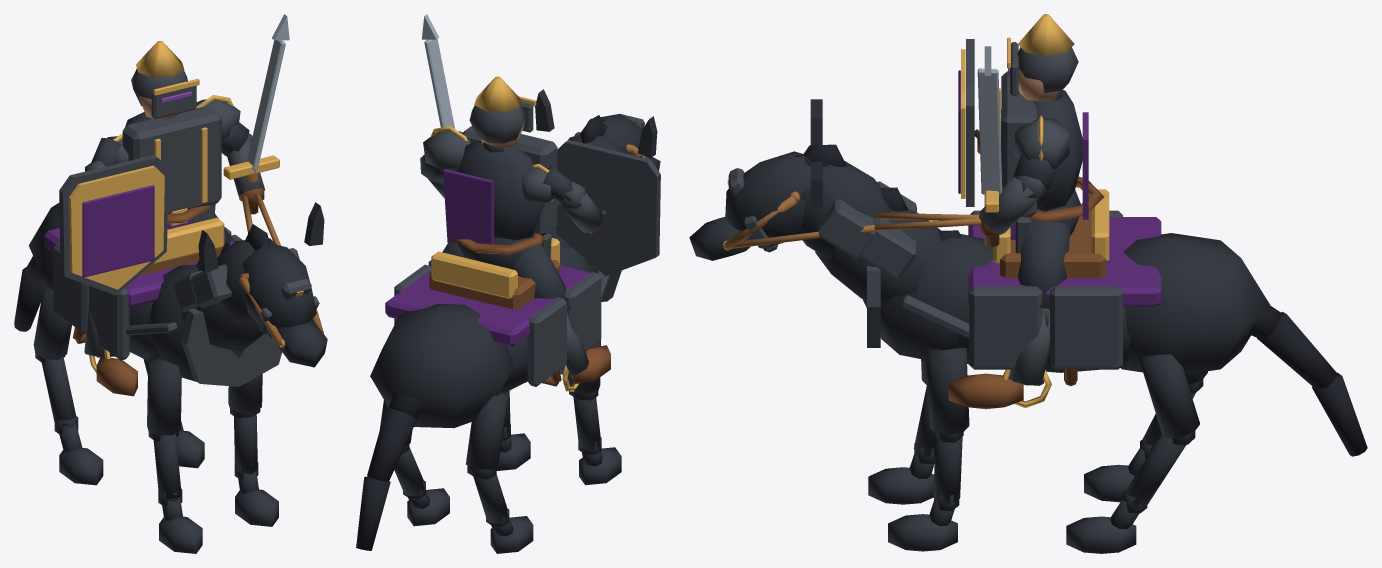
3 renders of one model, left to right at view 1: azimuth 30°, elevation 25°; view 2: azimuth 150°, elevation 25°; view 3: azimuth 270°, elevation 25°, orthographic. The views are drawn at different scales.
Parts seen in each view (by area): view 1: WK_Hegemony_Horseguard_LOD2_Compact_Static; view 2: WK_Hegemony_Horseguard_LOD2_Compact_Static; view 3: WK_Hegemony_Horseguard_LOD2_Compact_Static.
Part boxes in pixels (x1,y1,x2,y2): WK_Hegemony_Horseguard_LOD2_Compact_Static: (14, 14, 327, 553); WK_Hegemony_Horseguard_LOD2_Compact_Static: (356, 14, 660, 553); WK_Hegemony_Horseguard_LOD2_Compact_Static: (689, 14, 1367, 553).
Size of the model in its own units: 1.56 by 3.01 by 3.44.
